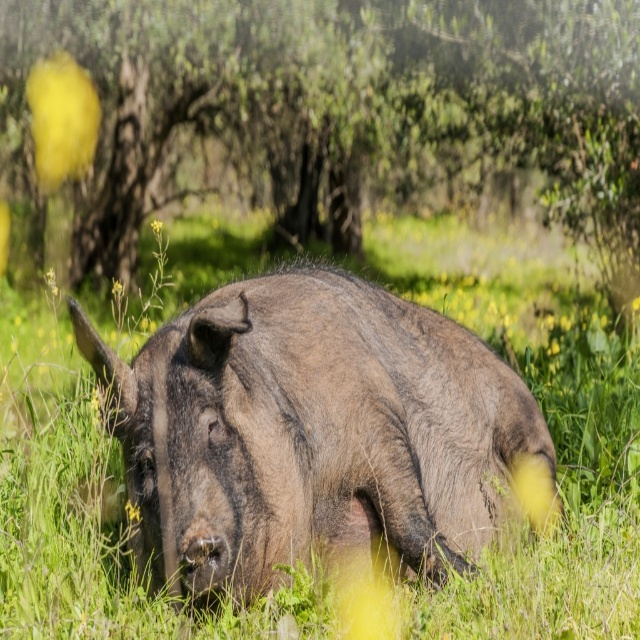Pig: (64, 249, 575, 630)
